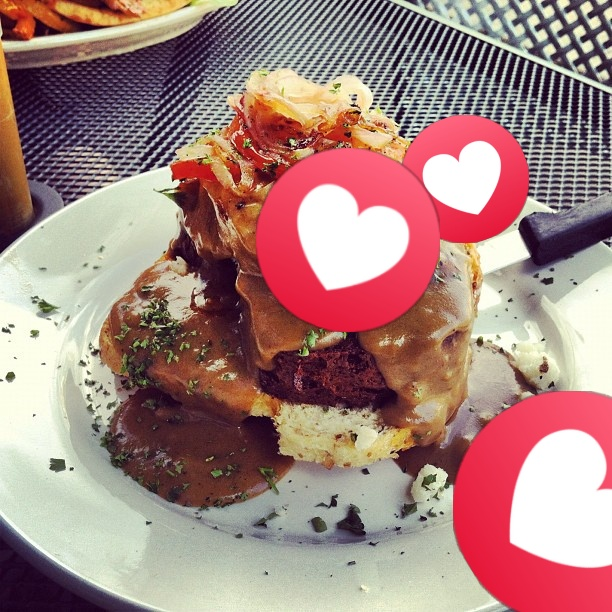love: (453, 391, 612, 612), (256, 148, 440, 332), (401, 115, 529, 243)
